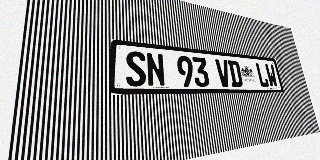3: (192, 57, 210, 87)
9: (176, 55, 195, 87)
D: (227, 60, 243, 87)
L: (255, 63, 269, 87)
N: (145, 52, 166, 87)
S: (125, 50, 147, 87)
V: (215, 59, 232, 87)
W: (264, 63, 278, 87)
